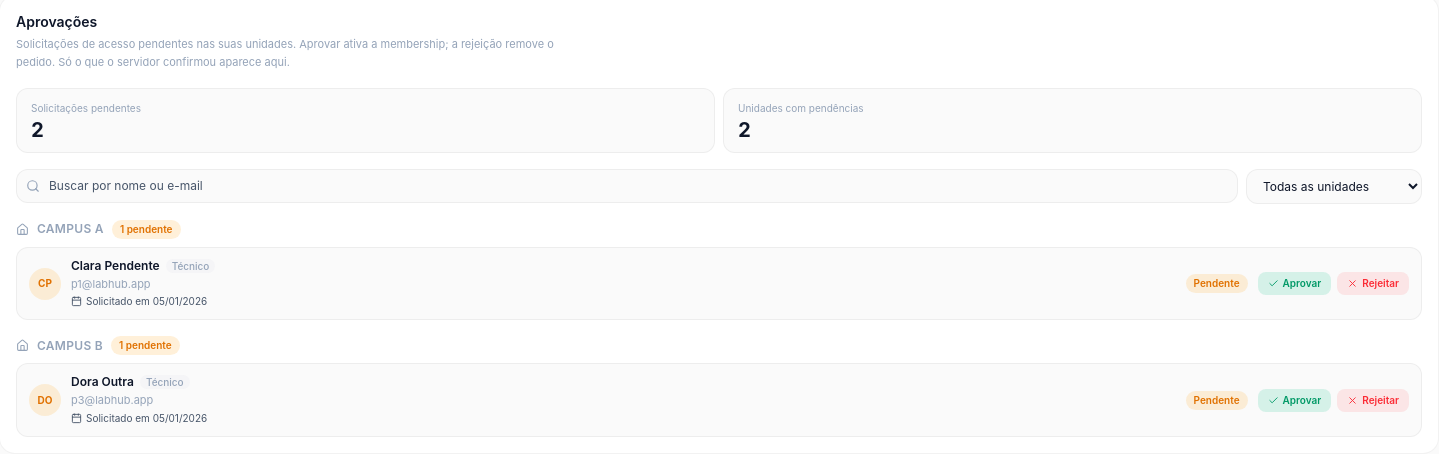
Test: CoordinatorApprovalsTab — fila de aprovações READ-ONLY sobre o escopo (V1) › filtro por unidade restringe ao escopo selecionado
Select "Campus A" in the dropdown with test id "approvals-unit-filter" at (1334, 186), box x1=1246 y1=169 x2=1422 y2=204
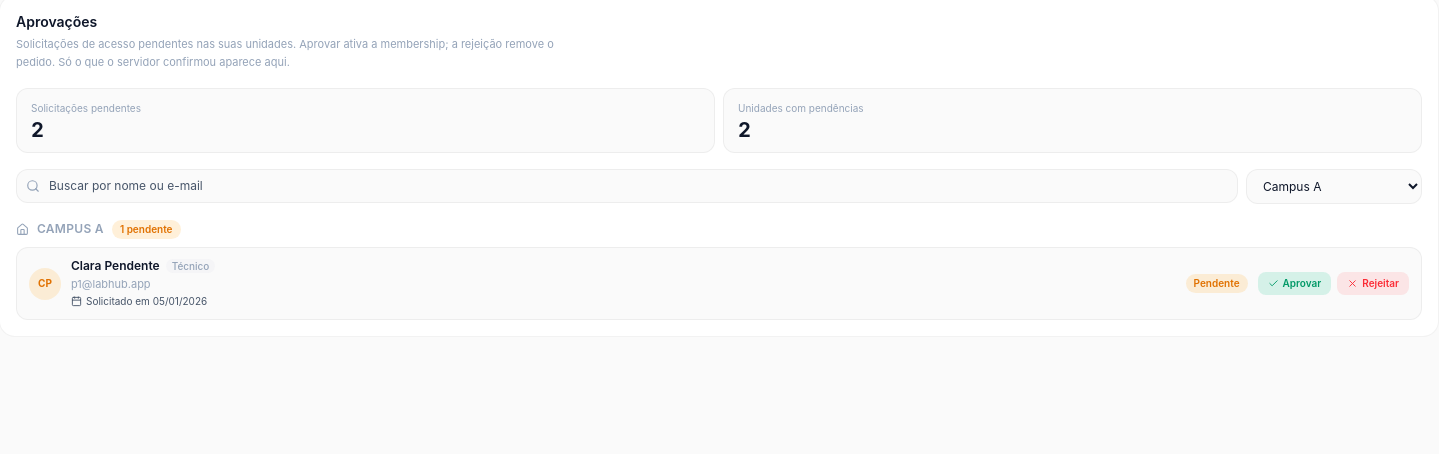
Expected: the text "Clara Pendente" is shown, x1=71 y1=258 x2=160 y2=274
Result: the text "Dora Outra" is gone
